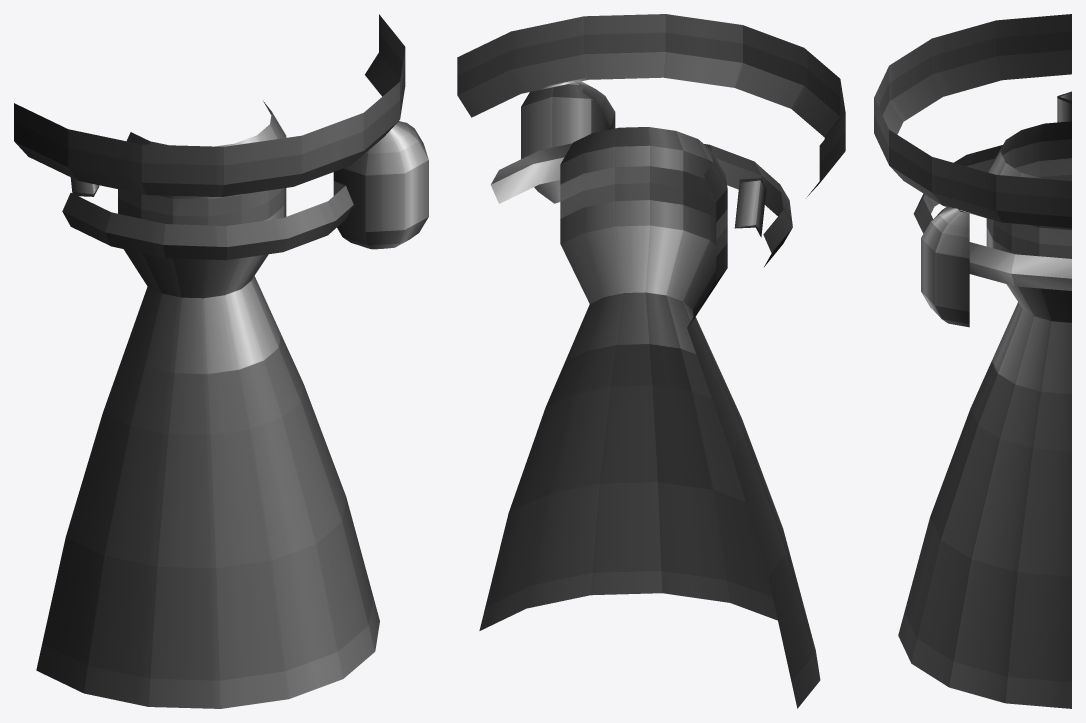
3 renders of one model, left to right at view 1: azimuth 30°, elevation 25°; view 2: azimuth 150°, elevation 25°; view 3: azimuth 270°, elevation 25°, orthographic. The views are drawn at different scales.
Parts seen in each view (by area): view 1: Cylinder.003; view 2: Cylinder.003; view 3: Cylinder.003.
Boxes of the visible parts, box(x1,y1,x2,y2) form: Cylinder.003: box(14, 14, 428, 708); Cylinder.003: box(457, 14, 845, 708); Cylinder.003: box(874, 14, 1071, 708).
Size of the model in its own units: 1 by 1.5 by 0.5.
Materials: 1 (1 with a texture image).
